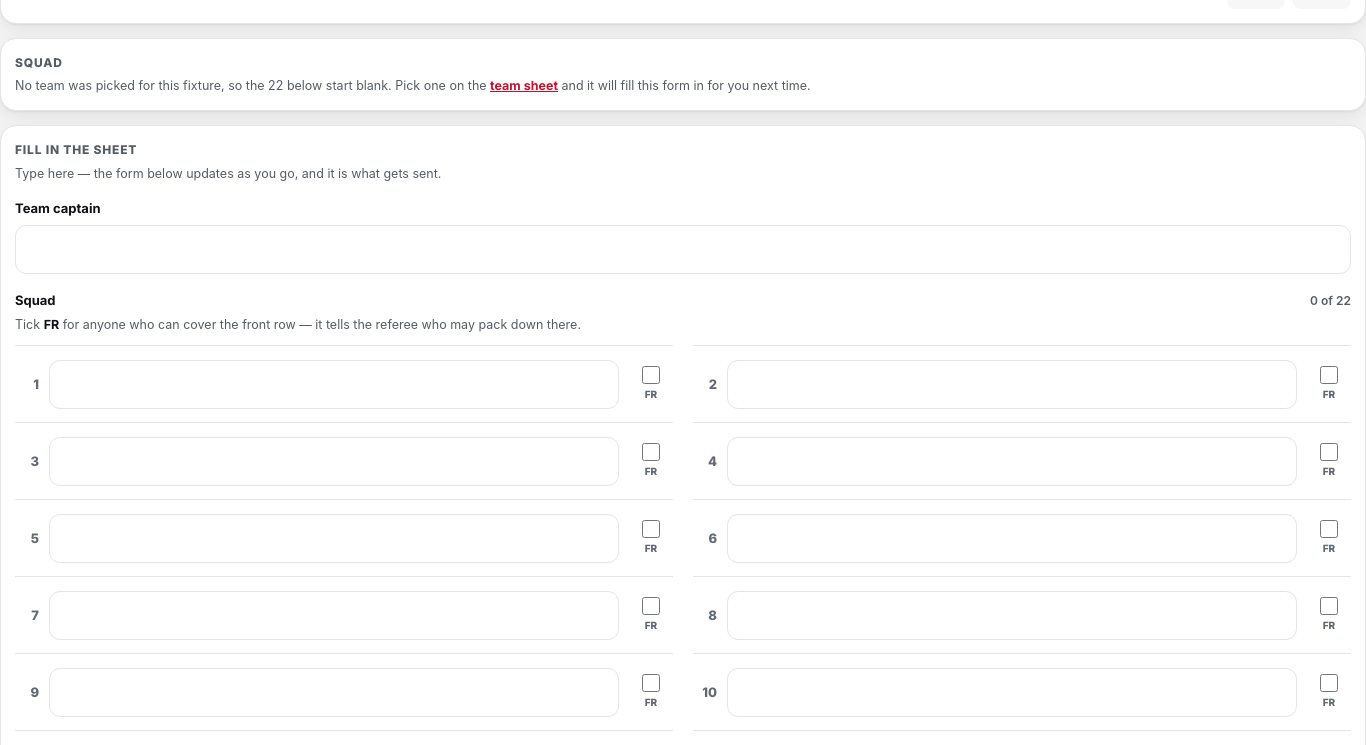
Scenario: MatchSheet — filling it in when the paper does not fit › ⚠️ types once and the preview follows — there is only one copy of the value
(page scrolled)
Type "Rory Ellingham" into the field named "Player 1". click: point(334, 384)
box: [49,360,619,409]
(page scrolled)
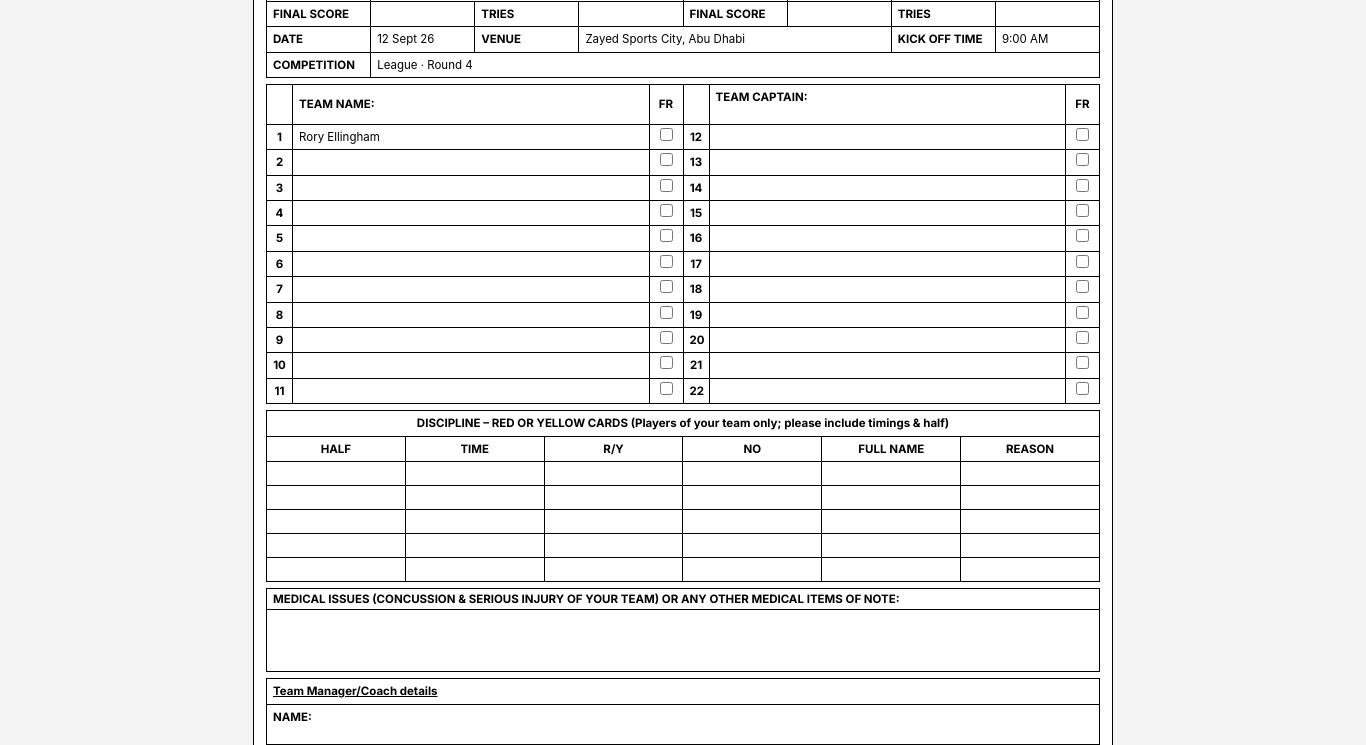
Now the element with test id "match-sheet-facsimile" shows "Rory Ellingham", box [299,130,380,144]
